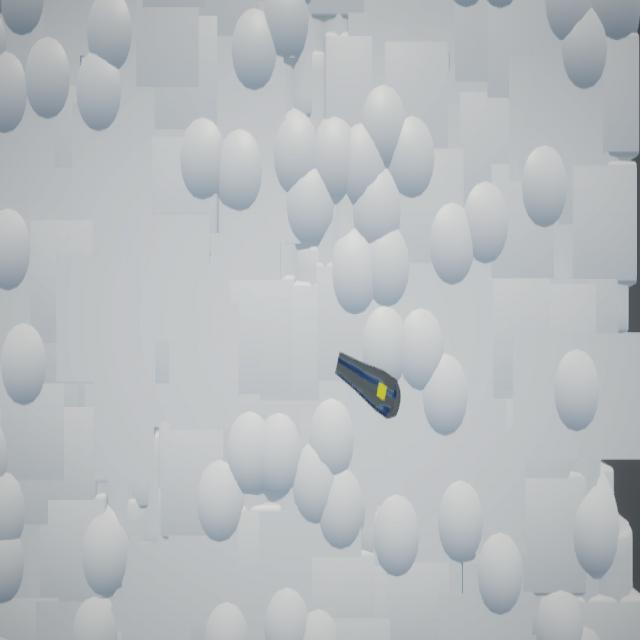handle_knife: (336, 352, 402, 420)
